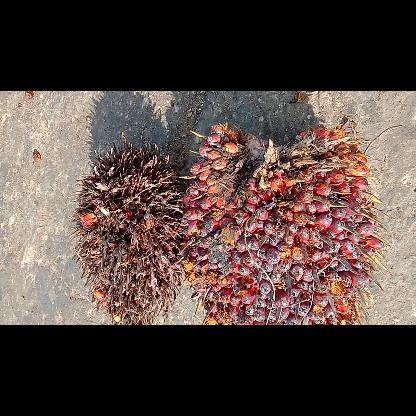TBS masak: (178, 122, 388, 324)
Terlalu masak: (73, 134, 184, 324)
